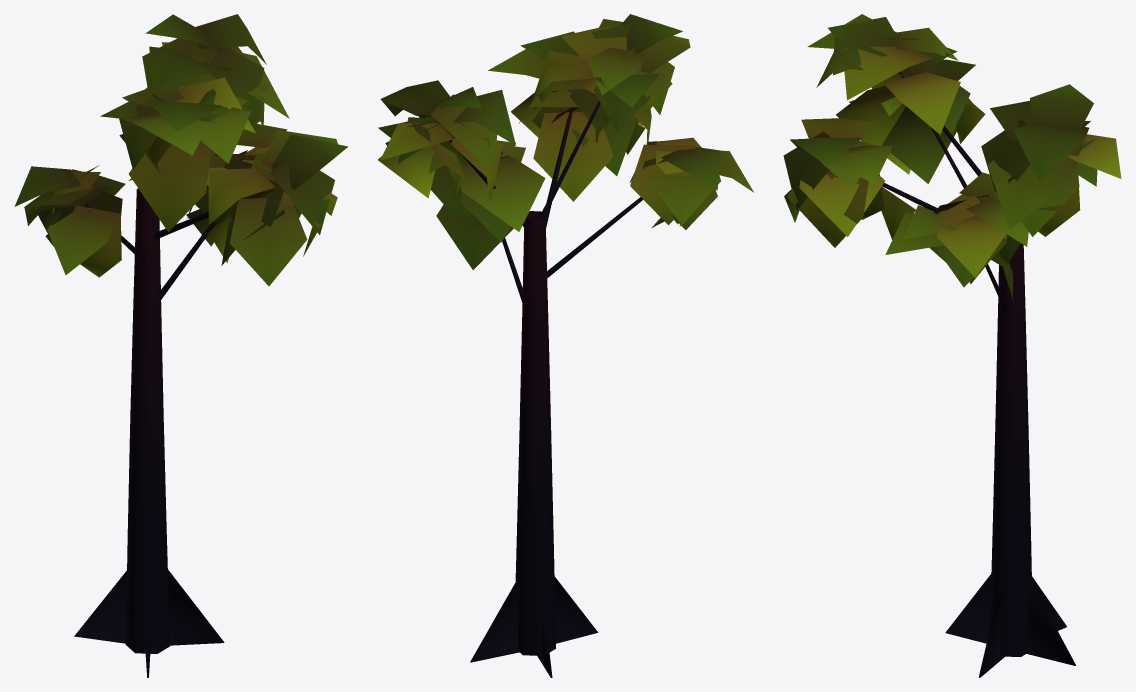
The model's file is patch_grassfield_far.glb.
3 renders of one model, left to right at view 1: azimuth 30°, elevation 25°; view 2: azimuth 150°, elevation 25°; view 3: azimuth 270°, elevation 25°, orthographic. The views are drawn at different scales.
Visible parts, largest first — view 1: patch_grassfield_far; view 2: patch_grassfield_far; view 3: patch_grassfield_far.
Part boxes in pixels (x1,y1,x2,y2): patch_grassfield_far: [14, 14, 347, 677]; patch_grassfield_far: [378, 14, 753, 677]; patch_grassfield_far: [783, 14, 1121, 677].
Size of the model in its own units: 5.59 by 10.52 by 5.35.
Materials: 1 (1 with a texture image).
